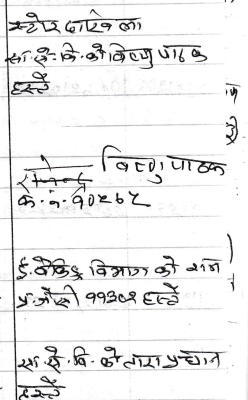text: (17, 344, 120, 373), (16, 189, 149, 210), (100, 144, 164, 184), (2, 42, 105, 66), (87, 253, 178, 277), (64, 8, 144, 35), (15, 255, 83, 282), (15, 284, 80, 312), (166, 153, 226, 177), (164, 348, 223, 372), (9, 11, 60, 38), (106, 42, 155, 70), (14, 375, 63, 400), (141, 280, 182, 307), (7, 71, 49, 97), (157, 42, 207, 63), (85, 288, 136, 307), (121, 352, 162, 371), (185, 258, 223, 274)
